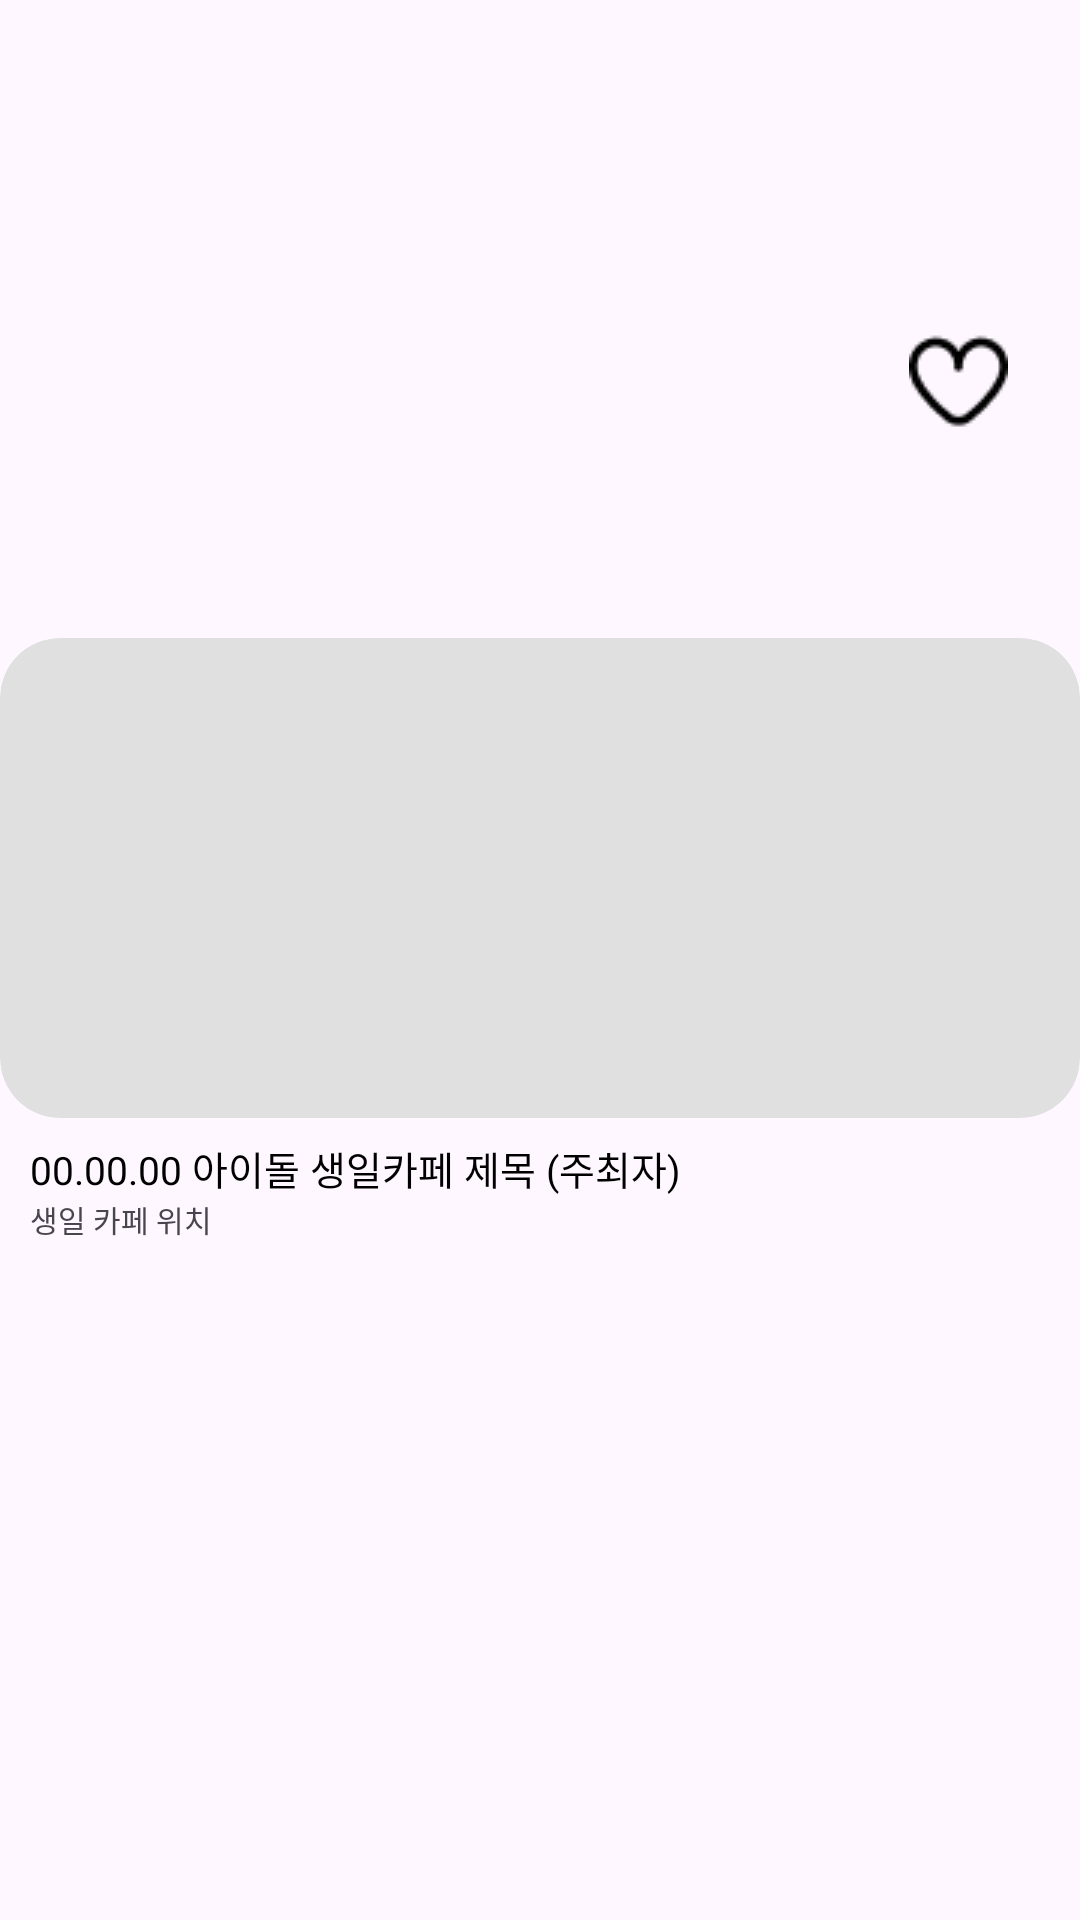

Locate icon controls on the screen. Image size 1080x1920, boxes as [x1,y1,x2,y2].
heart: [909,335,1008,427]
